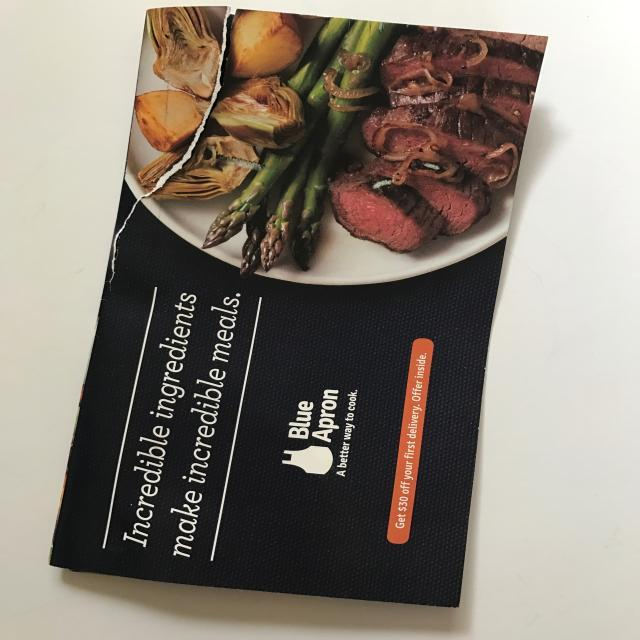paper: (44, 7, 548, 610)
